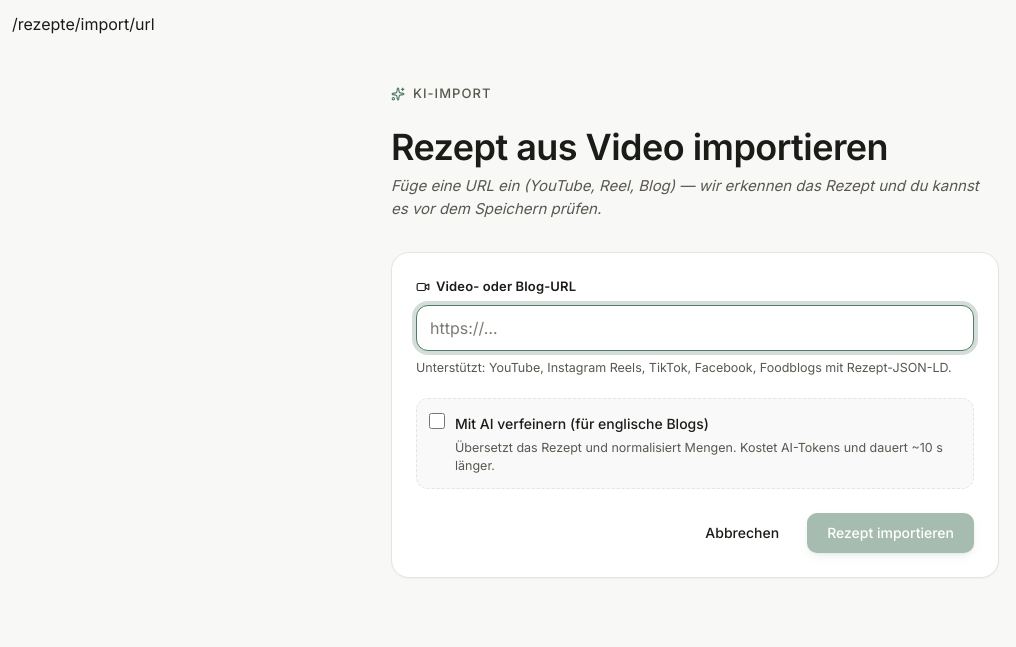
Test case: <ImportUrlPage /> › surfaces a server 400 error via errors:<code> localisation (no navigation)
In the field labelled "Video- oder Blog-URL": (695,328) [416,305,974,351], type "https://example.com/r"
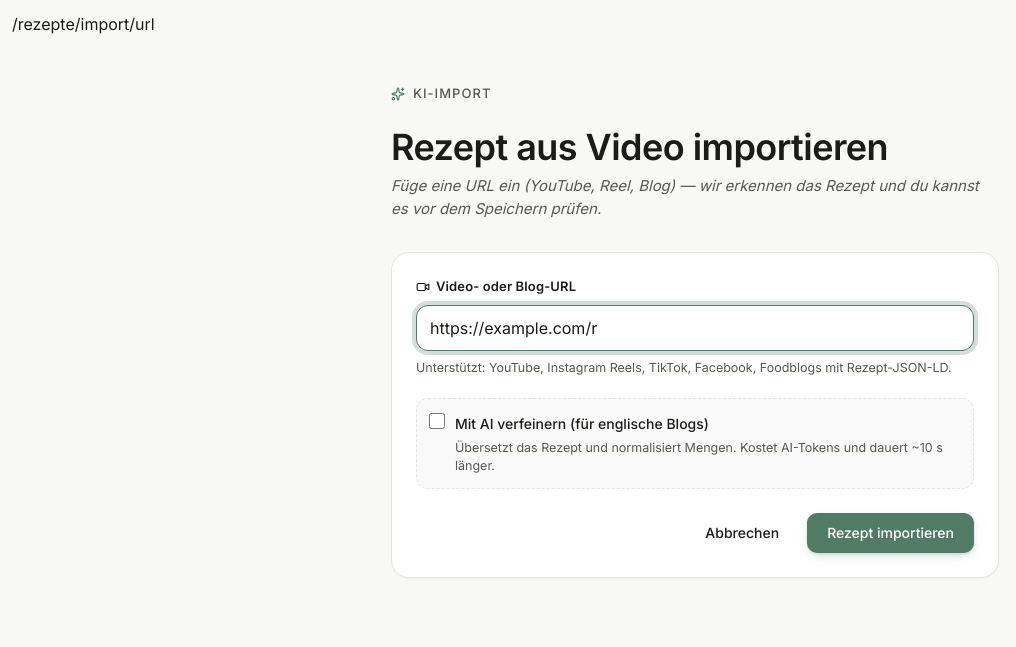
Click the button "Rezept importieren": (891,533) [807,513,974,553]
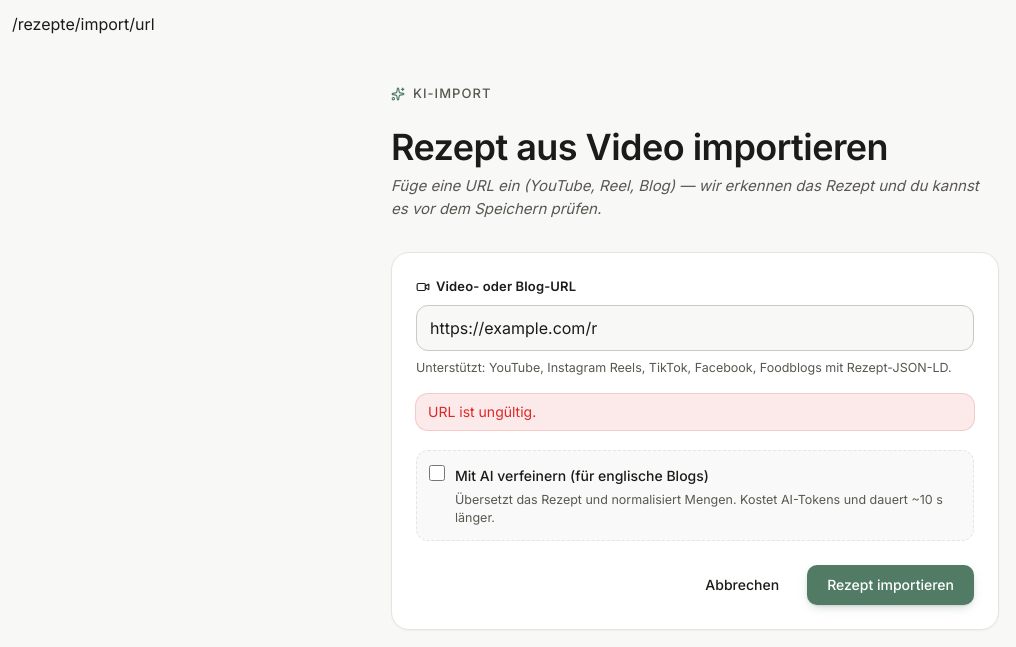
Expected: the message does not show "URL is not allowed", [416,394,974,430]
Now the message reads "URL ist ungültig.", box [428,403,536,420]
